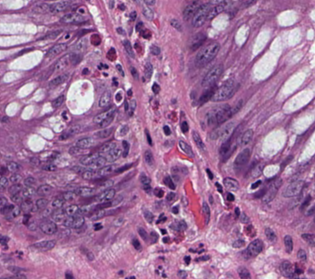nucleus: (195, 42, 219, 66), (211, 79, 234, 101), (202, 65, 222, 87), (262, 179, 281, 202), (283, 180, 304, 197), (93, 107, 115, 123), (59, 124, 81, 139), (245, 239, 262, 257), (54, 53, 70, 72), (93, 188, 114, 202), (199, 85, 215, 103), (234, 148, 249, 167), (46, 43, 66, 57), (48, 73, 69, 86), (190, 32, 205, 50), (220, 122, 235, 140), (79, 153, 99, 166), (96, 164, 116, 177), (280, 260, 295, 277), (39, 220, 57, 234), (89, 155, 107, 168), (51, 208, 66, 223), (179, 140, 193, 156), (192, 131, 204, 149), (219, 137, 231, 155), (98, 114, 114, 127), (99, 141, 116, 153), (95, 127, 113, 138), (75, 137, 93, 148), (33, 240, 55, 249), (250, 163, 264, 177), (106, 147, 121, 160), (223, 177, 238, 190), (99, 90, 111, 106), (240, 129, 252, 145), (123, 40, 134, 57), (71, 214, 84, 228), (41, 30, 61, 39), (36, 184, 51, 196), (74, 187, 94, 196), (76, 205, 93, 215), (51, 196, 65, 208), (82, 169, 98, 179), (264, 228, 276, 241), (231, 100, 242, 114), (63, 205, 78, 215), (91, 209, 106, 219), (202, 202, 209, 223), (52, 95, 64, 107), (209, 127, 221, 139), (60, 191, 76, 200), (35, 197, 47, 209), (164, 176, 175, 189), (144, 62, 152, 79), (284, 235, 292, 252), (75, 39, 86, 51), (302, 234, 314, 245), (115, 164, 131, 172), (144, 150, 153, 164), (172, 221, 186, 230), (70, 53, 81, 64), (238, 267, 249, 278), (127, 100, 135, 115), (110, 195, 122, 205), (69, 145, 82, 154), (301, 195, 310, 208), (90, 34, 100, 45), (107, 48, 116, 60), (140, 173, 149, 185), (144, 210, 153, 222), (297, 249, 306, 261), (145, 130, 152, 145), (239, 213, 249, 223), (138, 228, 147, 239), (132, 239, 141, 250), (98, 179, 112, 186), (122, 140, 128, 156), (232, 239, 244, 247), (150, 45, 160, 54), (153, 188, 163, 197), (305, 205, 314, 215), (42, 164, 56, 170), (72, 166, 84, 173), (84, 250, 93, 259), (140, 29, 150, 37), (120, 125, 128, 135), (116, 64, 123, 75), (130, 67, 137, 78), (181, 121, 188, 132), (150, 231, 157, 242), (251, 180, 260, 188), (166, 192, 174, 201), (152, 83, 159, 93), (163, 126, 170, 135), (158, 214, 165, 222), (114, 218, 122, 225), (178, 270, 186, 277), (206, 169, 212, 178), (227, 193, 234, 200), (215, 183, 221, 191), (116, 92, 121, 101), (172, 206, 178, 213), (94, 224, 101, 229), (184, 256, 189, 263), (235, 208, 239, 216), (163, 237, 169, 242), (65, 273, 72, 277), (124, 102, 127, 111), (83, 68, 87, 74), (127, 90, 131, 94), (161, 229, 165, 233), (114, 78, 116, 85), (128, 276, 134, 278)
